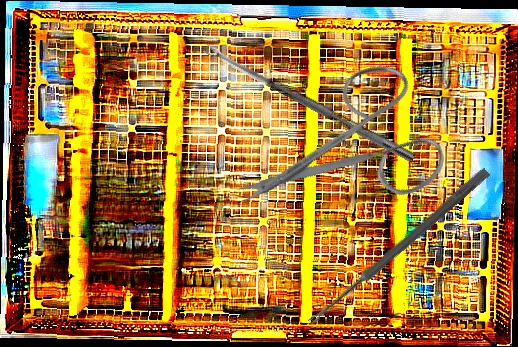Iris Scissors: (229, 28, 474, 282)
Surgical Spoon: (306, 166, 491, 328), (203, 42, 417, 163)
